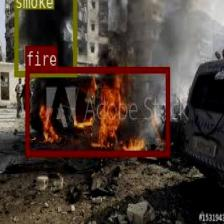fire: (25, 66, 169, 154)
smoke: (14, 0, 75, 76)
